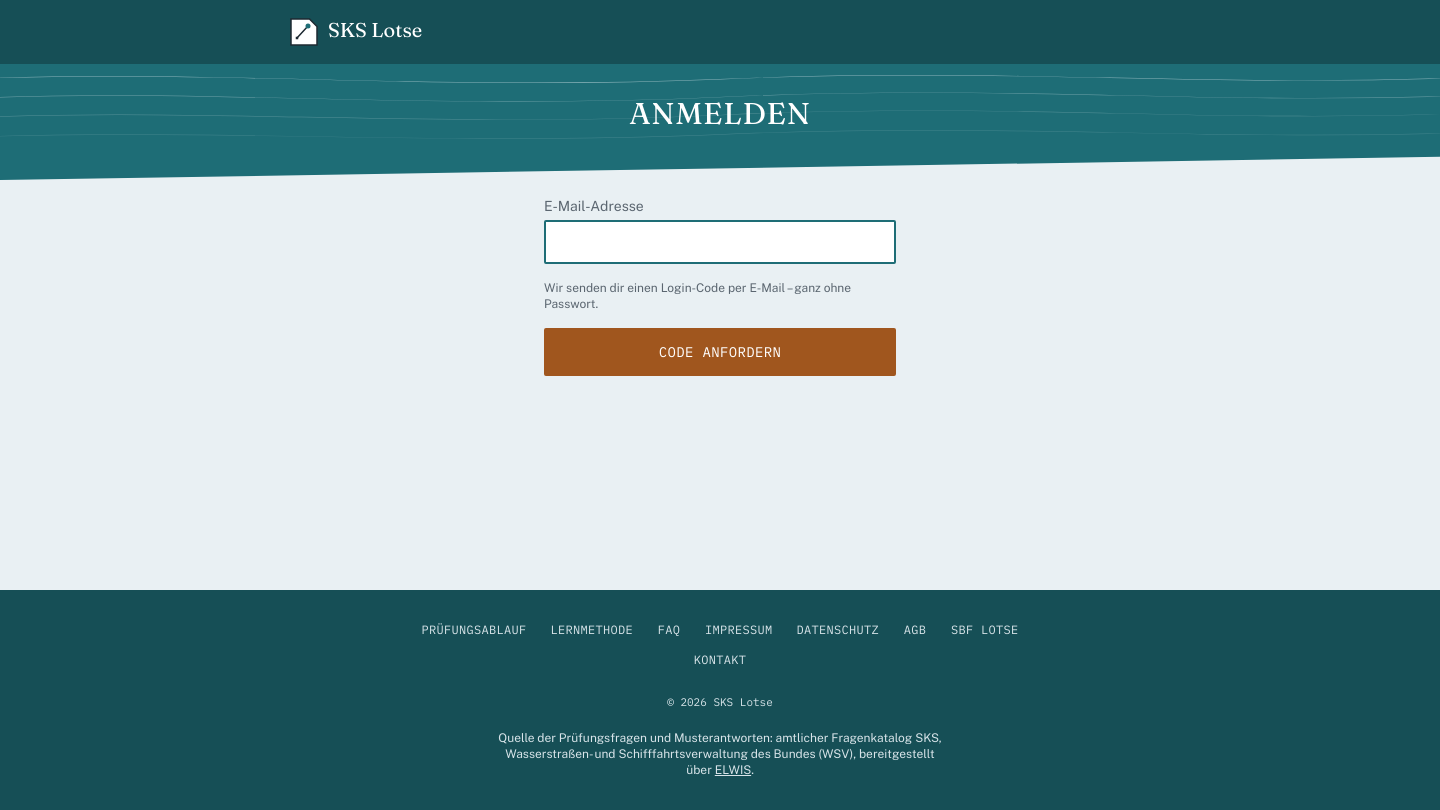
Test: LoginPage › lets the learner go back and use a different email address
Type "learner@example.com" into the field labelled "E-Mail-Adresse" at (720, 242), box x1=544 y1=220 x2=896 y2=264
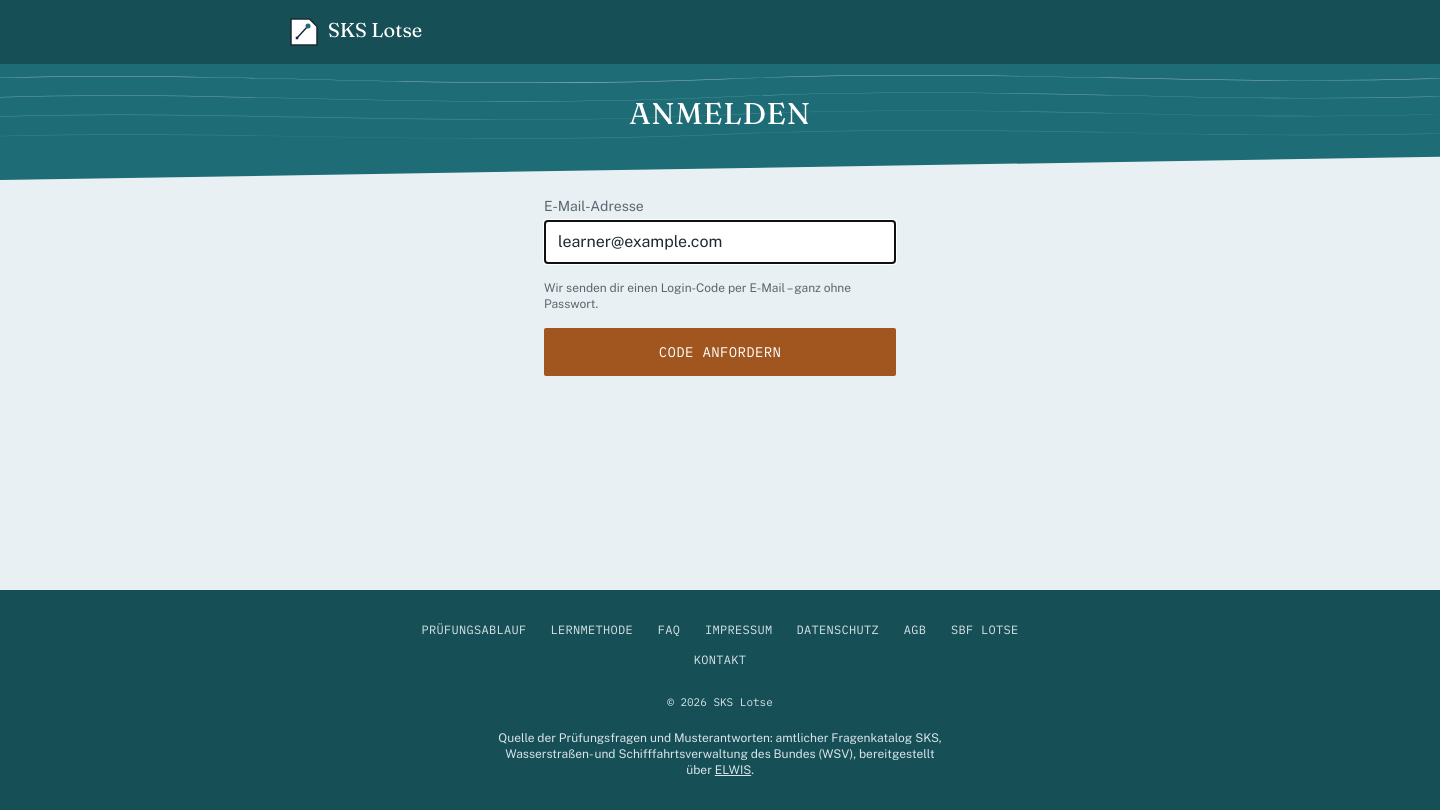
Click the button "Code anfordern" at (720, 352), box x1=544 y1=328 x2=896 y2=376
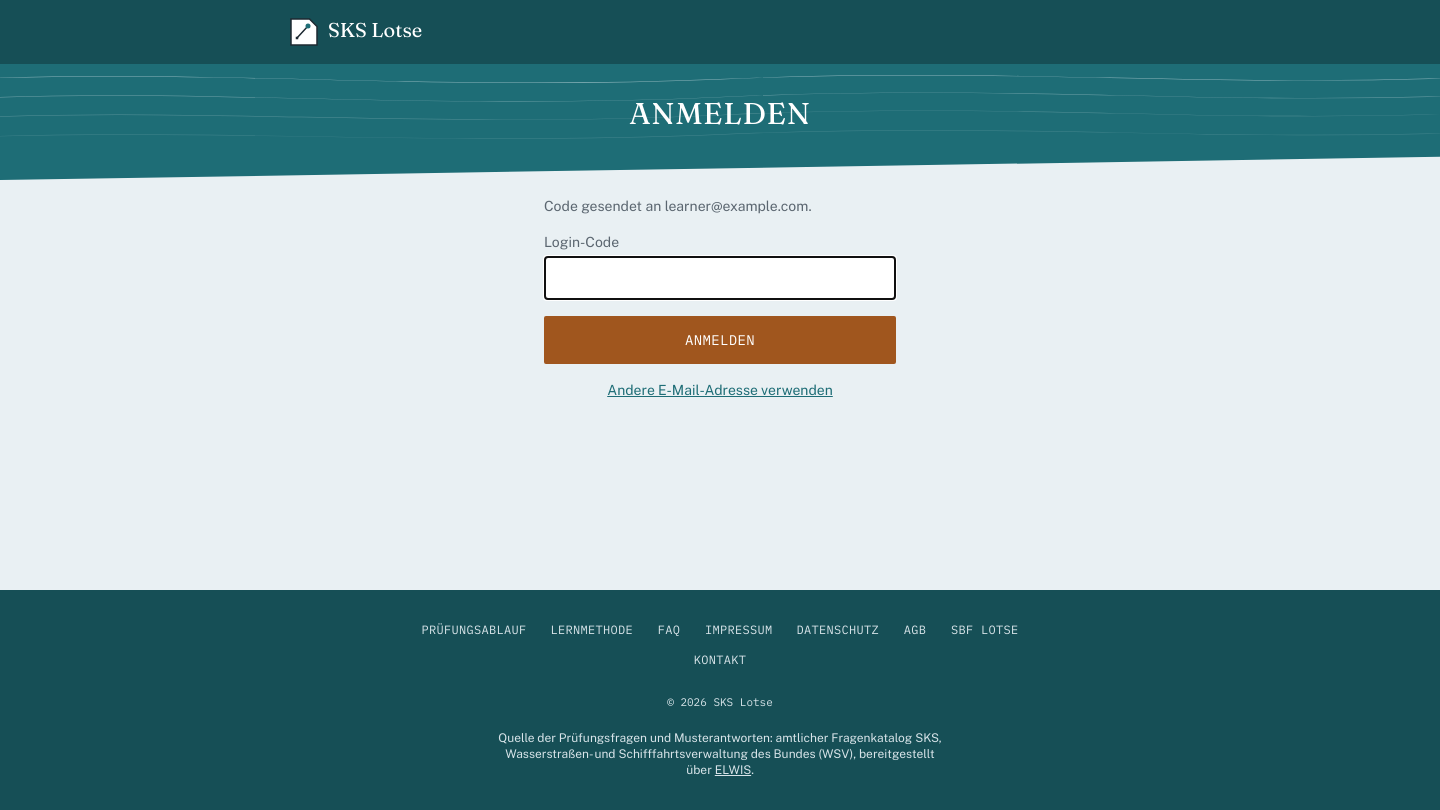
Result: the field labelled "Login-Code" is shown at x1=544 y1=256 x2=896 y2=300
Click the button "Andere E-Mail-Adresse verwenden" at (720, 390), box x1=544 y1=380 x2=896 y2=400
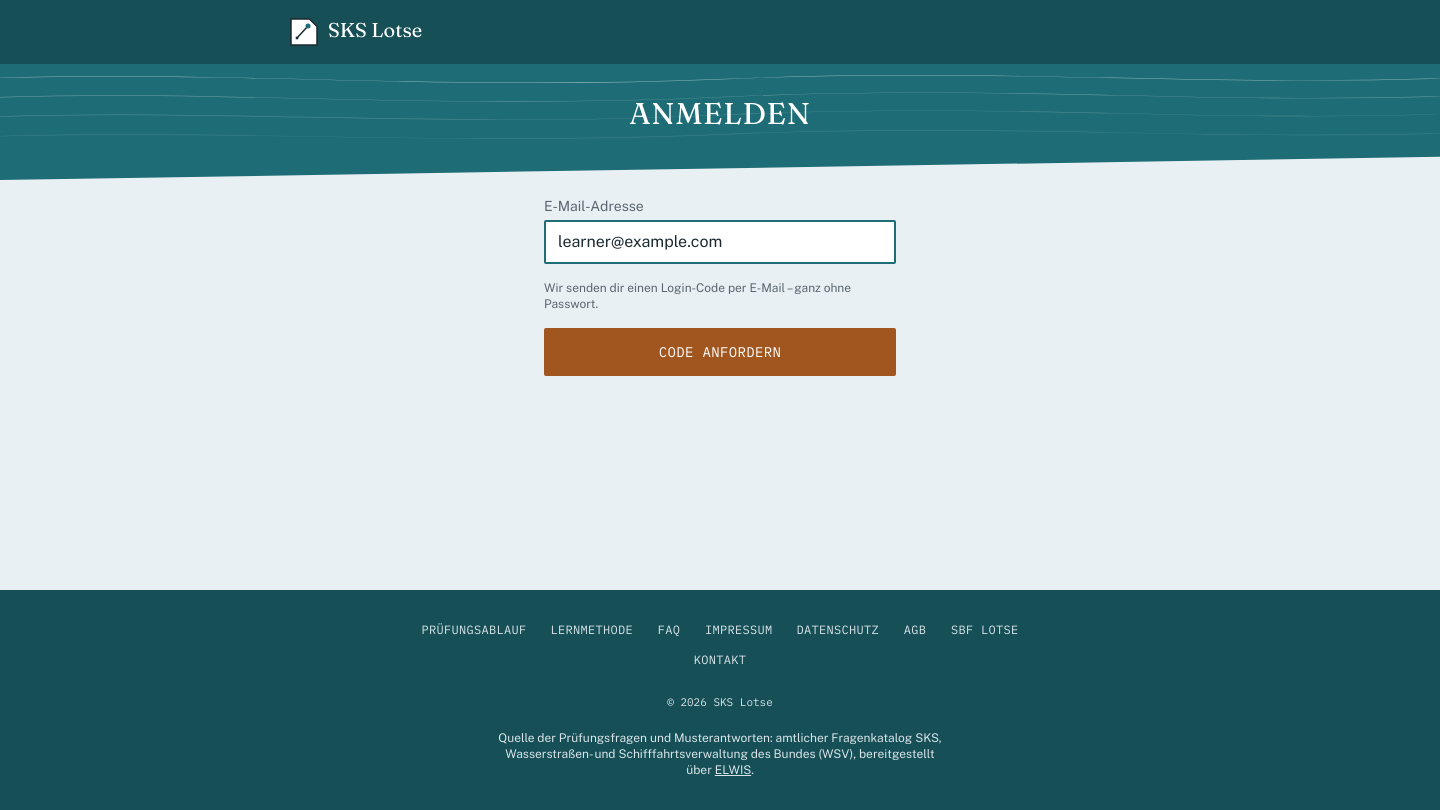
Result: the field labelled "E-Mail-Adresse" is shown at x1=544 y1=220 x2=896 y2=264
